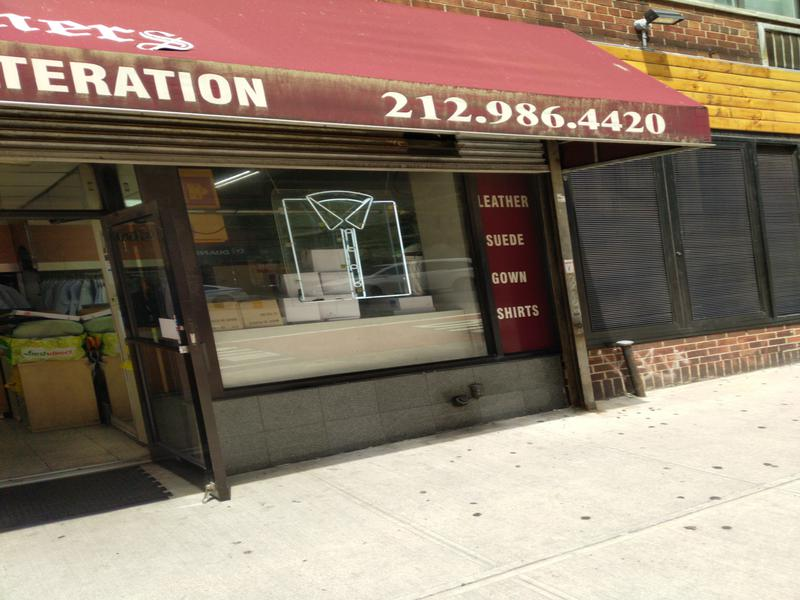door: (98, 206, 257, 506)
